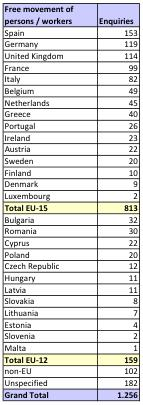table: (3, 4, 136, 399)
table column: (3, 4, 85, 399), (85, 4, 136, 399)
table column header: (3, 4, 136, 26)
table row: (3, 4, 136, 26), (3, 26, 136, 38), (3, 49, 136, 61), (3, 61, 136, 73), (3, 84, 136, 96), (3, 96, 136, 108), (3, 119, 136, 131), (3, 131, 136, 143), (3, 143, 136, 155), (3, 166, 136, 178), (3, 178, 136, 190), (3, 201, 136, 213), (3, 213, 136, 225), (3, 236, 136, 248), (3, 248, 136, 260), (3, 271, 136, 283), (3, 283, 136, 295), (3, 306, 136, 318), (3, 318, 136, 330), (3, 330, 136, 342), (3, 353, 136, 365), (3, 365, 136, 377), (3, 38, 136, 49), (3, 73, 136, 84), (3, 108, 136, 119), (3, 155, 136, 166), (3, 190, 136, 201), (3, 225, 136, 236), (3, 260, 136, 271), (3, 295, 136, 306), (3, 342, 136, 353), (3, 377, 136, 388), (3, 388, 136, 399)
